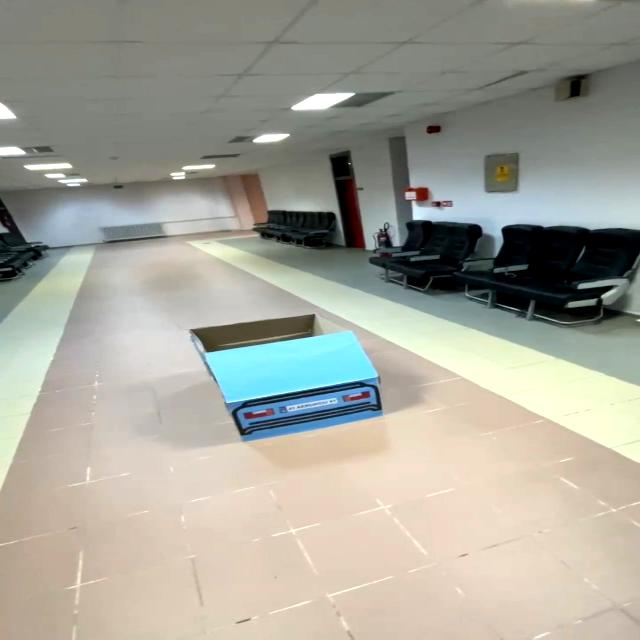blue_car: (167, 304, 408, 457)
